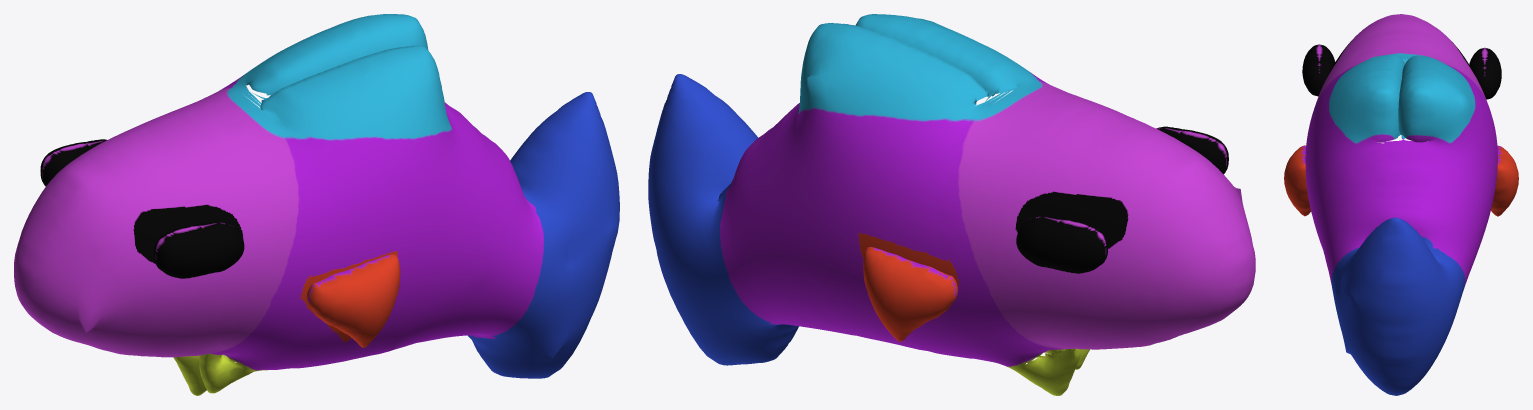
Rendered from asset.glb.
3 renders of one model, left to right at view 1: azimuth 30°, elevation 25°; view 2: azimuth 150°, elevation 25°; view 3: azimuth 270°, elevation 25°, orthographic. The views are drawn at different scales.
Size of the model in its own units: 8.48 by 5.21 by 4.13.
Materials: 1 (1 with a texture image).
